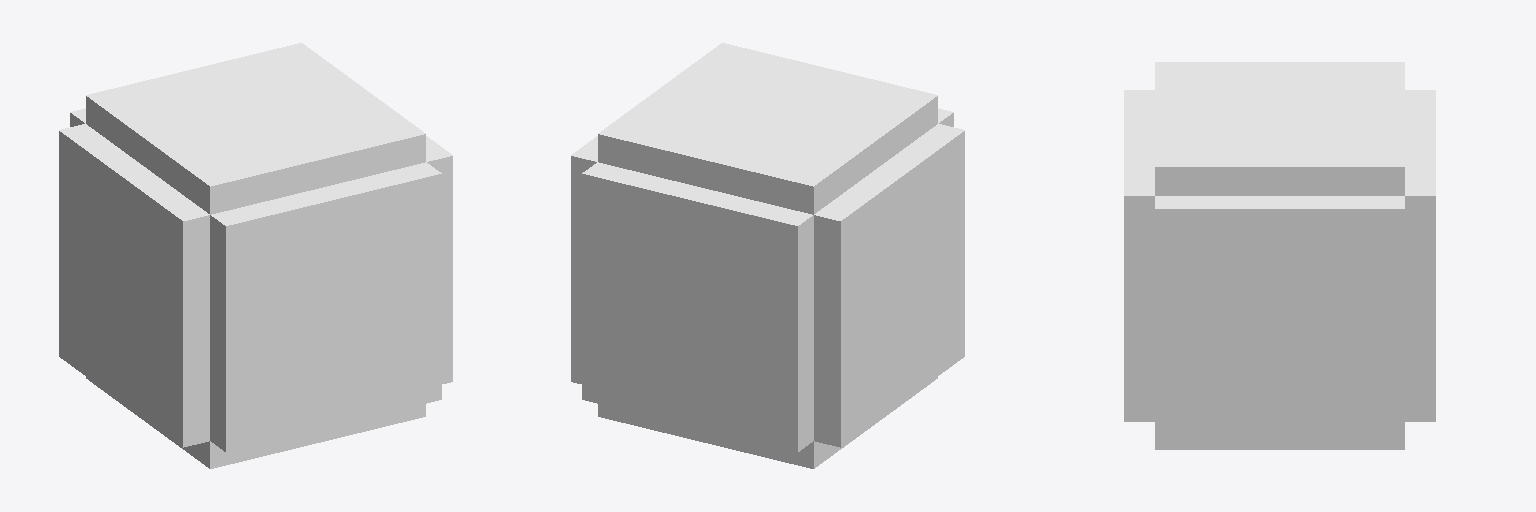
Rendered from PlayerLight.obj.
The picture shows the model from 3 angles: view 1: azimuth 30°, elevation 25°; view 2: azimuth 150°, elevation 25°; view 3: azimuth 270°, elevation 25°; orthographic projection.
Visible parts, largest first — view 1: PlayerLight; view 2: PlayerLight; view 3: PlayerLight.
Part boxes in pixels (x1,y1,x2,y2): PlayerLight: (59,43,452,468); PlayerLight: (571,43,964,468); PlayerLight: (1124,62,1435,449).
Bounding box in the file's own units: 20 × 20 × 20.